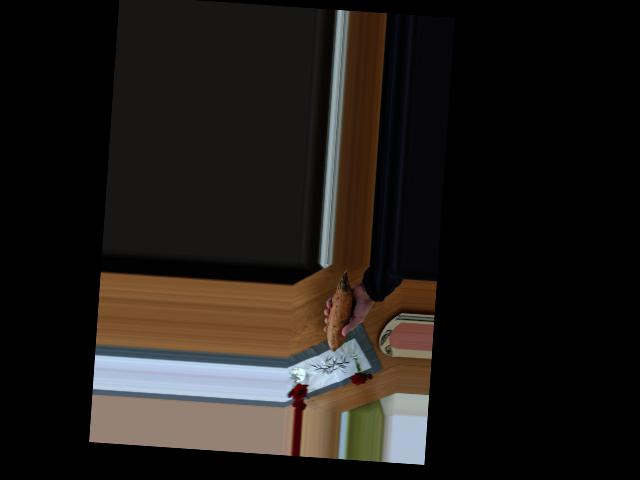sweet_potato: (322, 276, 361, 354)
